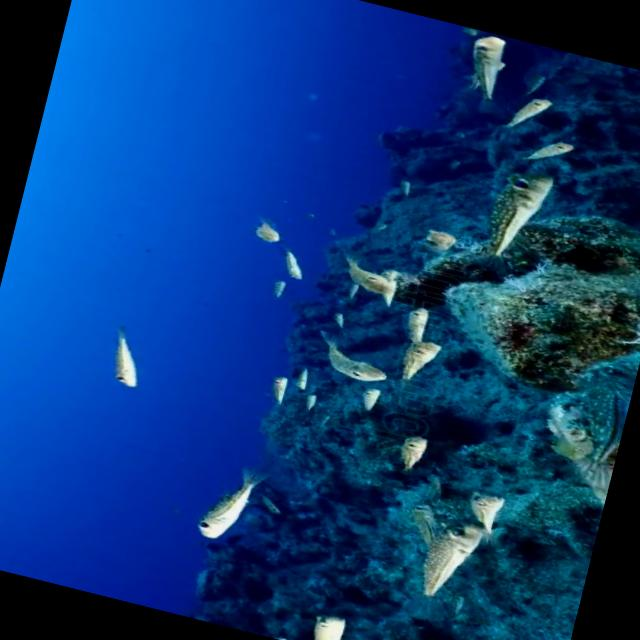Balon Baligi: (474, 160, 560, 270), (188, 461, 264, 546), (453, 34, 515, 106), (88, 326, 154, 393), (316, 334, 392, 385), (496, 88, 554, 139), (336, 256, 396, 298), (380, 432, 430, 474), (516, 132, 574, 168), (406, 220, 458, 260), (398, 338, 438, 388), (242, 214, 282, 246), (274, 251, 309, 287), (348, 382, 383, 416), (262, 372, 292, 405)
